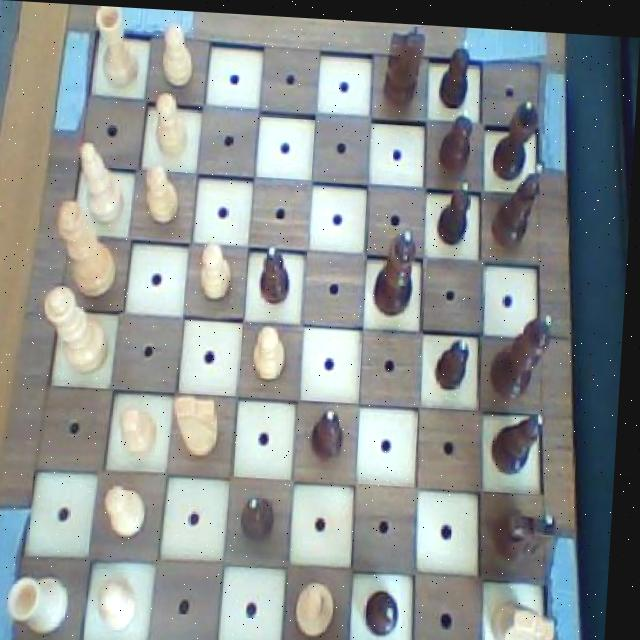bishop: (489, 151, 552, 248), (494, 399, 553, 473)
black-bishop: (487, 302, 563, 400)
black-king: (490, 490, 565, 572), (379, 18, 429, 109)
black-knight: (434, 97, 479, 174), (436, 28, 480, 106), (308, 392, 355, 461), (257, 237, 301, 307), (240, 485, 288, 546), (436, 170, 475, 242), (368, 578, 414, 637), (437, 326, 478, 390)
black-pawn: (373, 217, 426, 312)
black-queen: (493, 88, 549, 177)
black-rook: (76, 137, 133, 226), (301, 569, 350, 638)
white-bishop: (52, 194, 127, 303)
white-king: (173, 387, 233, 462), (493, 583, 570, 640)
white-knight: (106, 475, 159, 546), (97, 570, 151, 637), (142, 157, 190, 228), (158, 15, 202, 90), (196, 231, 240, 302), (252, 319, 299, 385), (153, 86, 193, 162), (120, 402, 164, 460)
white-pawn: (39, 278, 118, 379)
white-queen: (90, 5, 146, 89), (11, 567, 78, 637)
